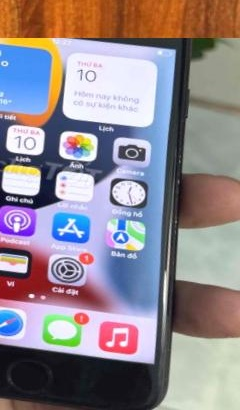scratch: (147, 330, 178, 396)
